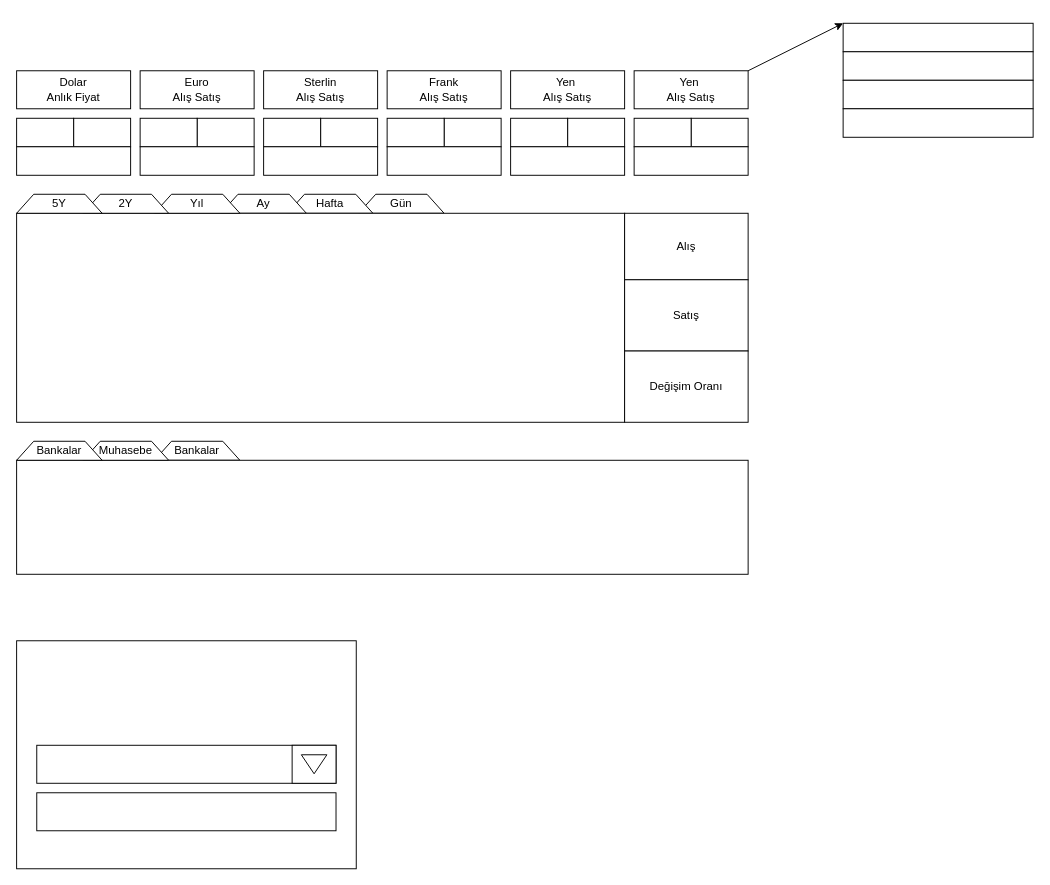
The diagram is 1050 pixels wide and 885 high, and some of its shapes have lost their labels. Here are the shapes that lost their labels. From the top down, the box of each, then its label:
(842, 22, 1033, 52): Değiştir
(16, 212, 625, 422): Grafik buraya
